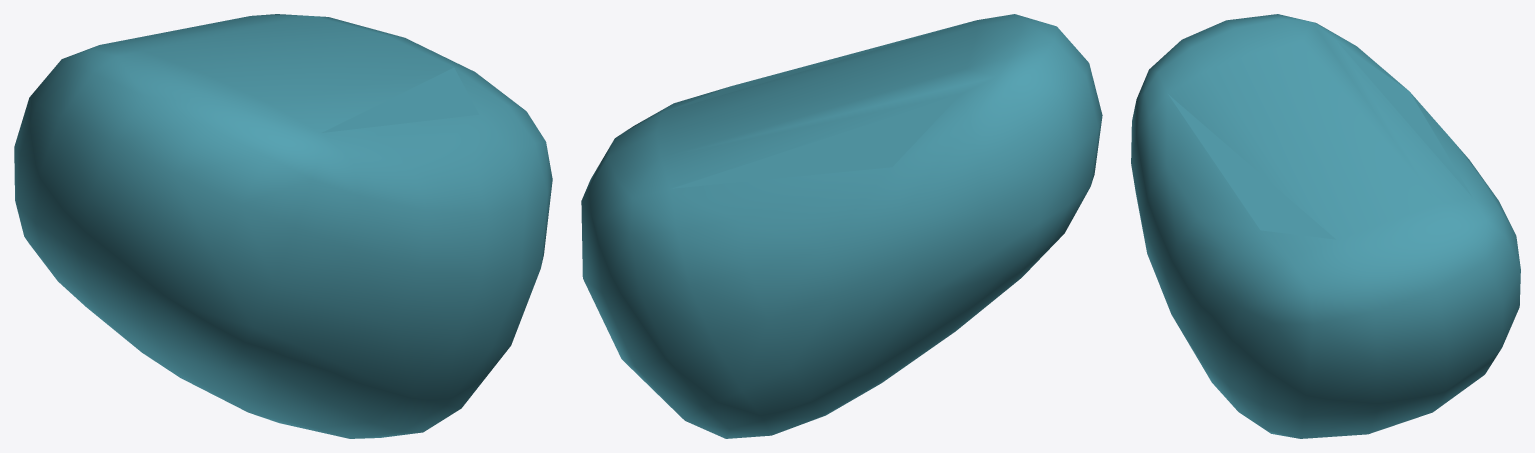
Rendered from COL_Alpha_Surface_036_convex_hull.dae.
3 renders of one model, left to right at view 1: azimuth 30°, elevation 25°; view 2: azimuth 150°, elevation 25°; view 3: azimuth 270°, elevation 25°, orthographic. The views are drawn at different scales.
Visible parts, largest first — view 1: COL_Alpha_Surface_036_convex_hull; view 2: COL_Alpha_Surface_036_convex_hull; view 3: COL_Alpha_Surface_036_convex_hull.
Part boxes in pixels (bbox=[...]): COL_Alpha_Surface_036_convex_hull: bbox=[14, 14, 552, 438]; COL_Alpha_Surface_036_convex_hull: bbox=[581, 14, 1102, 438]; COL_Alpha_Surface_036_convex_hull: bbox=[1131, 14, 1520, 438].
Bounding box in the file's own units: 3.02 × 2.8 × 2.51.
